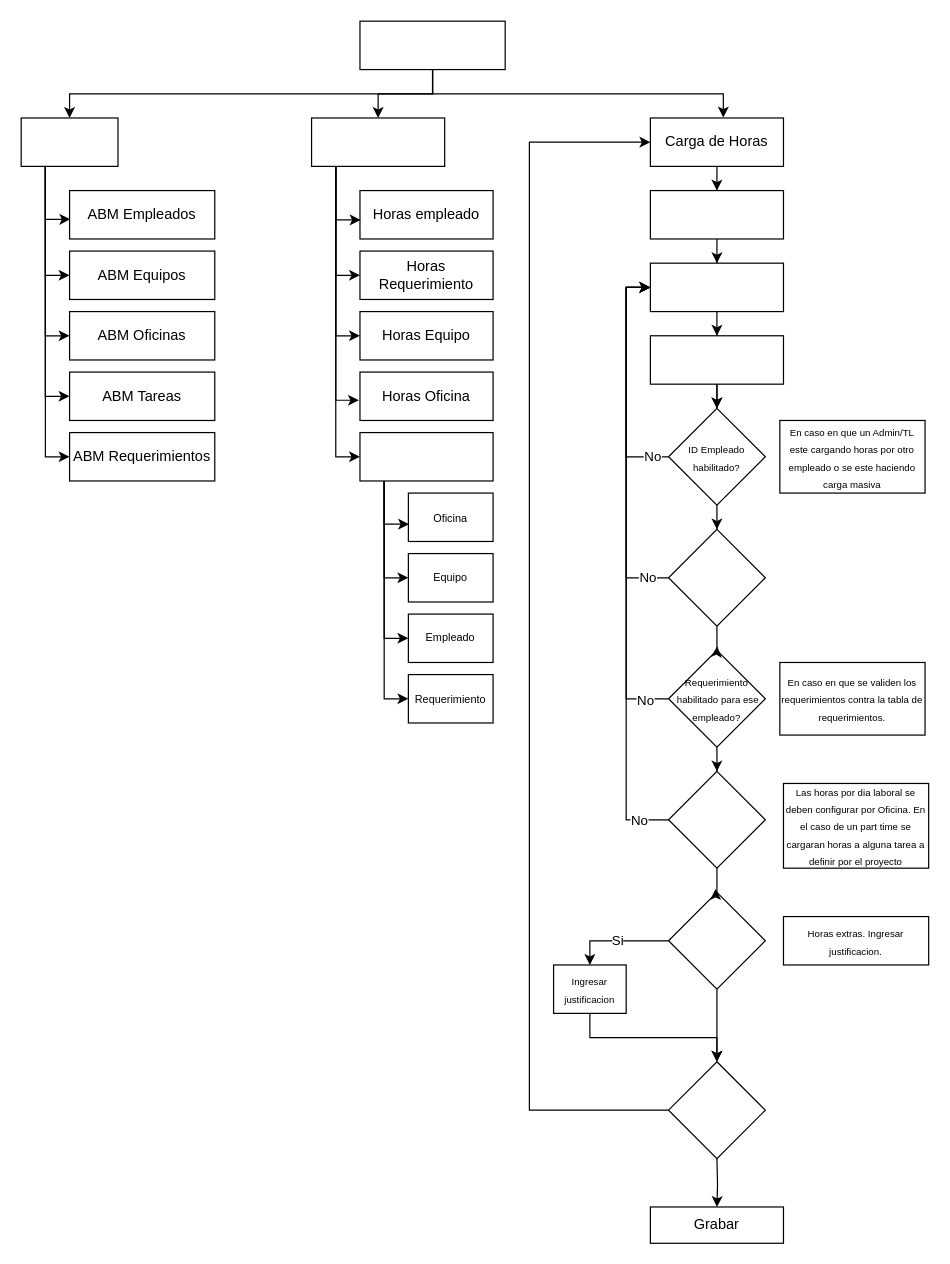
Some shapes in this 950 by 1264 pixel diagram are drawn without their labels. Each missing label, with the centre of its shape:
Admin: the point at 69,141
Agrego nueva linea: the point at 716,214
Cargo datos: the point at 716,287
Equipo habilitado para ese empleado?: the point at 716,577
Grabar cambios?: the point at 716,1110
Hago validaciones: the point at 716,359
Horas exceden al dia laboral?: the point at 716,940
Horas Extras: the point at 426,456
Ingreso al sistema: the point at 432,45
Reportes: the point at 377,141
Se alcanzo la cant de horas labor. por dia?: the point at 716,819
